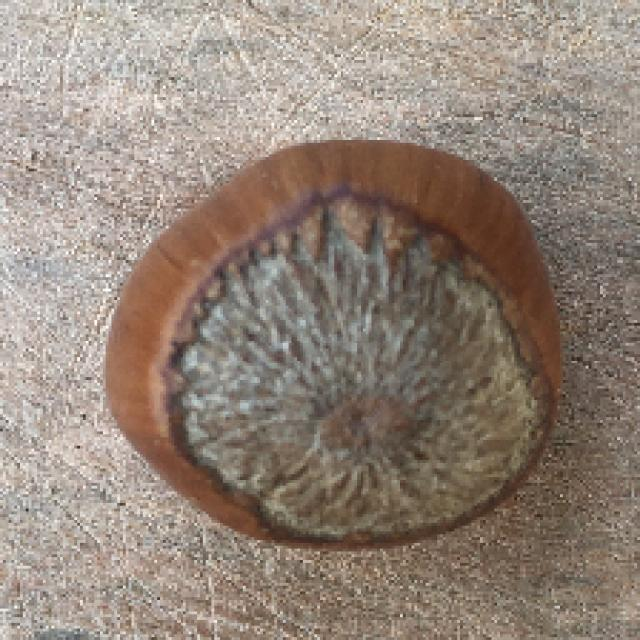damagedHazelnut: (102, 134, 575, 553)
